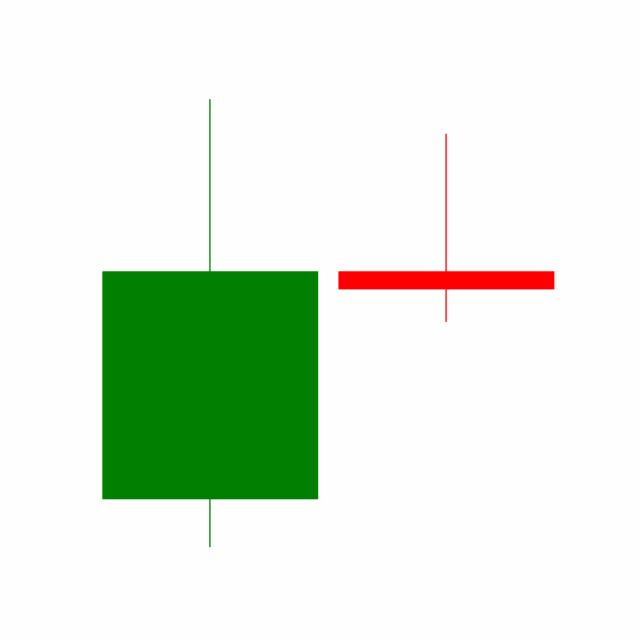Spinning Top: (327, 131, 565, 325)
